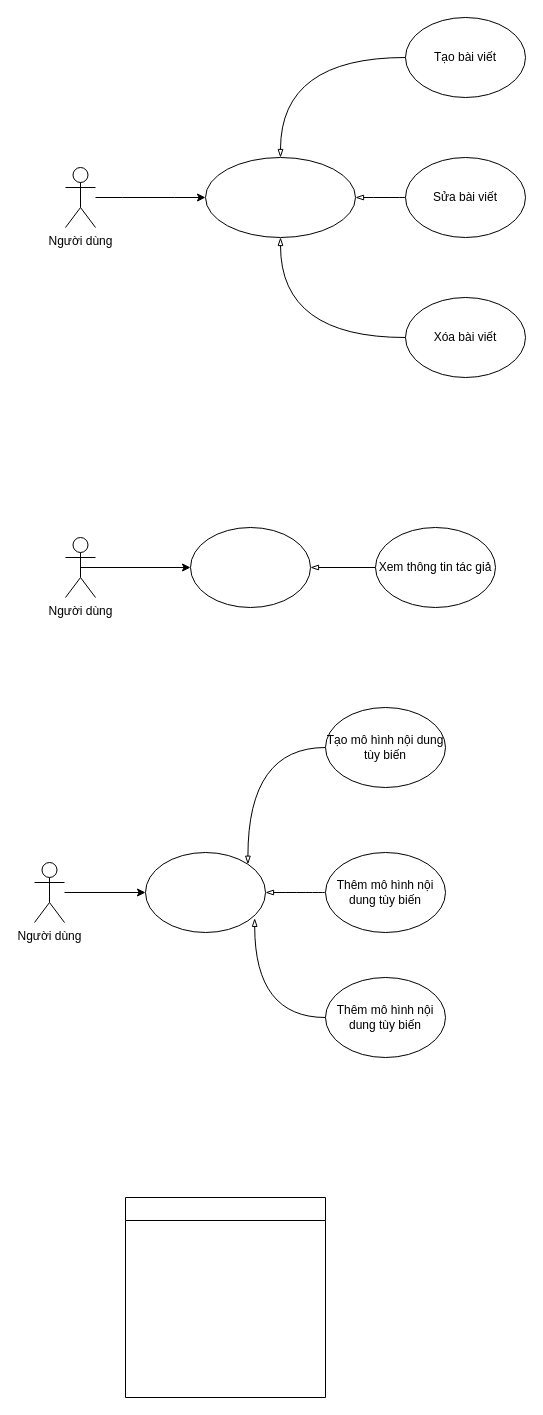
Image size: 543x1415. Some labels were removed from this diagram. Each missing label, with the centre of its shape:
"Quản lí bài viết" belongs at point 280,197.
"Quản lý mô hình nội dung tùy biến" belongs at point 205,892.
"Quản lý tác giả" belongs at point 250,567.
"Vertical Container" belongs at point 225,1297.
